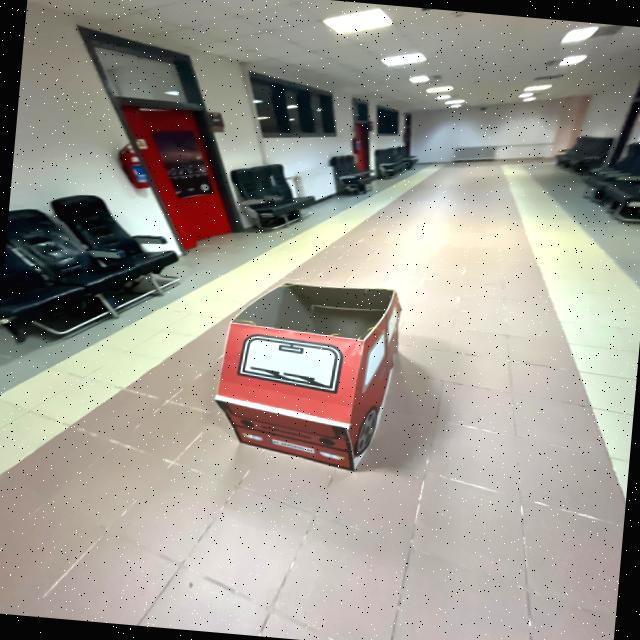red_car: (201, 262, 413, 497)
